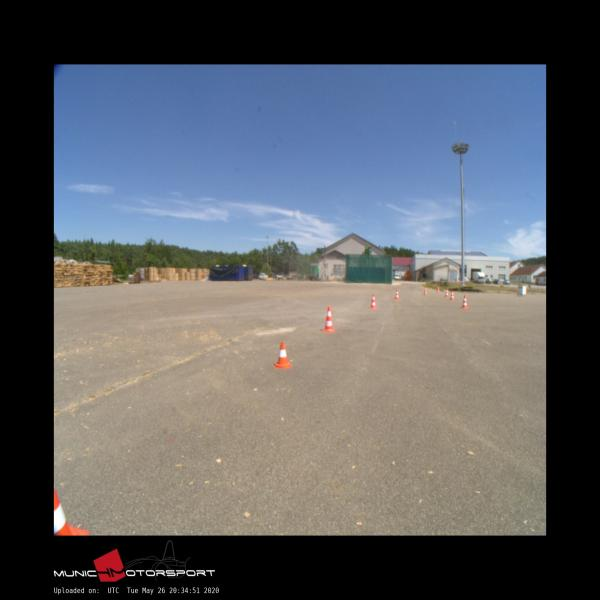large_orange_cone: (322, 308, 335, 332), (370, 294, 377, 309), (461, 294, 468, 308), (395, 289, 399, 299), (450, 290, 454, 300), (444, 288, 448, 297), (424, 287, 427, 295), (437, 285, 440, 293)
orange_cone: (274, 342, 291, 368)
